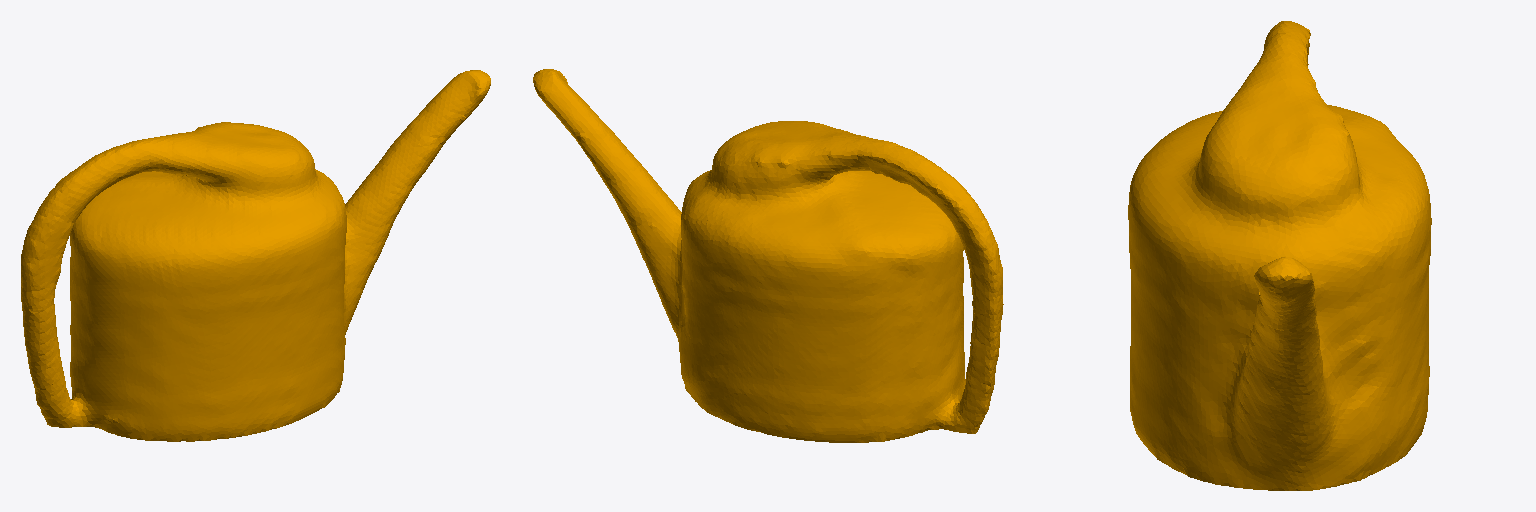
robot.urdf — watercan:
<robot name="watercan">
  <link name="watercan">
    <inertial>
      <origin xyz="0 0 0.0145"/>
      <mass value="0.1" />
      <inertia  ixx="0.0001" ixy="0.0"  ixz="0.0"  iyy="0.0001"  iyz="0.0"  izz="0.0001" />
    </inertial>
    <visual>
      <origin xyz="0 0 0.0145"/>
      <geometry>        
     <mesh filename="watercan.dae" scale="1 1 1"/>
    </geometry>
    </visual>
    <collision>
      <origin xyz="0 0 0.0145"/>
      <geometry>
        <box size="0.029 0.029 0.029"/>
      </geometry>
    </collision>
  </link>
  <gazebo reference="watercan">
    <material>Gazebo/Blue</material>
  </gazebo>
</robot>

--- Render facts (derived) ---
3 views of the same robot in one strip: view 1: azimuth 30°, elevation 25°; view 2: azimuth 150°, elevation 25°; view 3: azimuth 270°, elevation 25° (orthographic).
Robot: watercan — 1 links, 0 joints (none); root link watercan; default pose: every joint at zero.
Visible links, largest first — view 1: watercan; view 2: watercan; view 3: watercan.
Link boxes in pixels (box(x1,y1,x2,y2)): watercan: box(21, 70, 490, 441); watercan: box(533, 69, 1003, 442); watercan: box(1128, 21, 1431, 490).
Size in the robot's own frame: 0.3746 by 0.1655 by 0.2032 metres.
Meshes: 1 distinct files referenced, 1 mesh visuals loaded (1 Collada DAE).